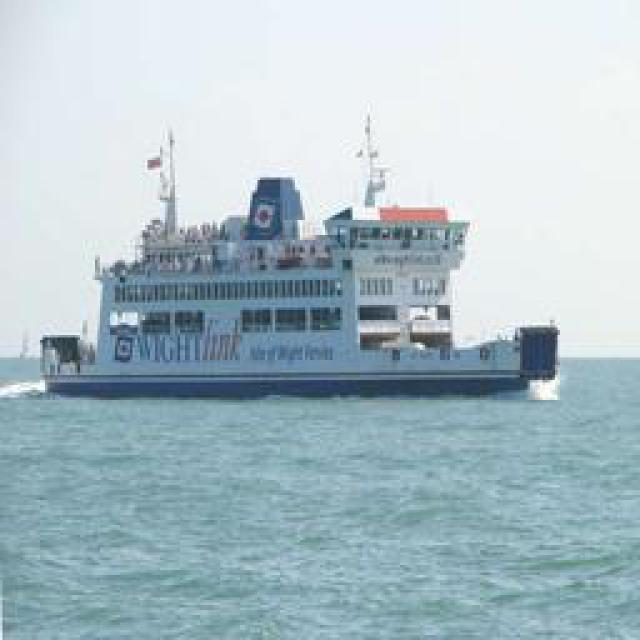Ship: (37, 145, 570, 403)
